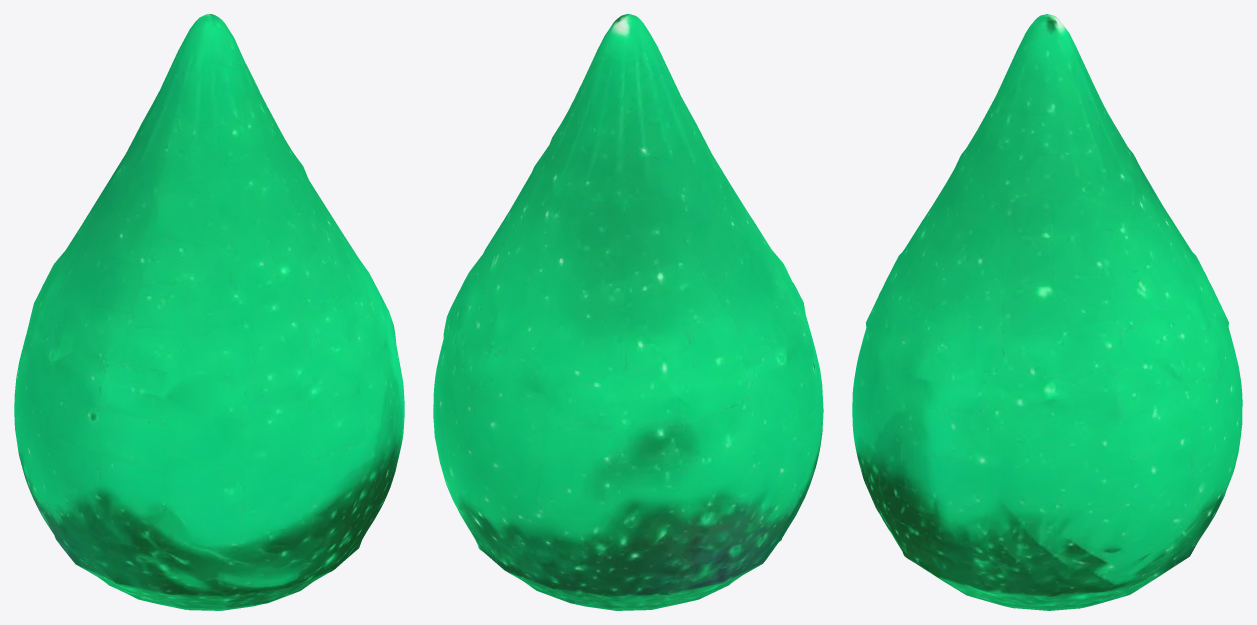
Rendered from emerald_droplets.glb.
The picture shows the model from 3 angles, left to right: view 1: azimuth 30°, elevation 25°; view 2: azimuth 150°, elevation 25°; view 3: azimuth 270°, elevation 25°; orthographic projection.
Bounding box in the file's own units: 1.16 × 1.9 × 1.16.
Materials: 1 (1 with a texture image).
